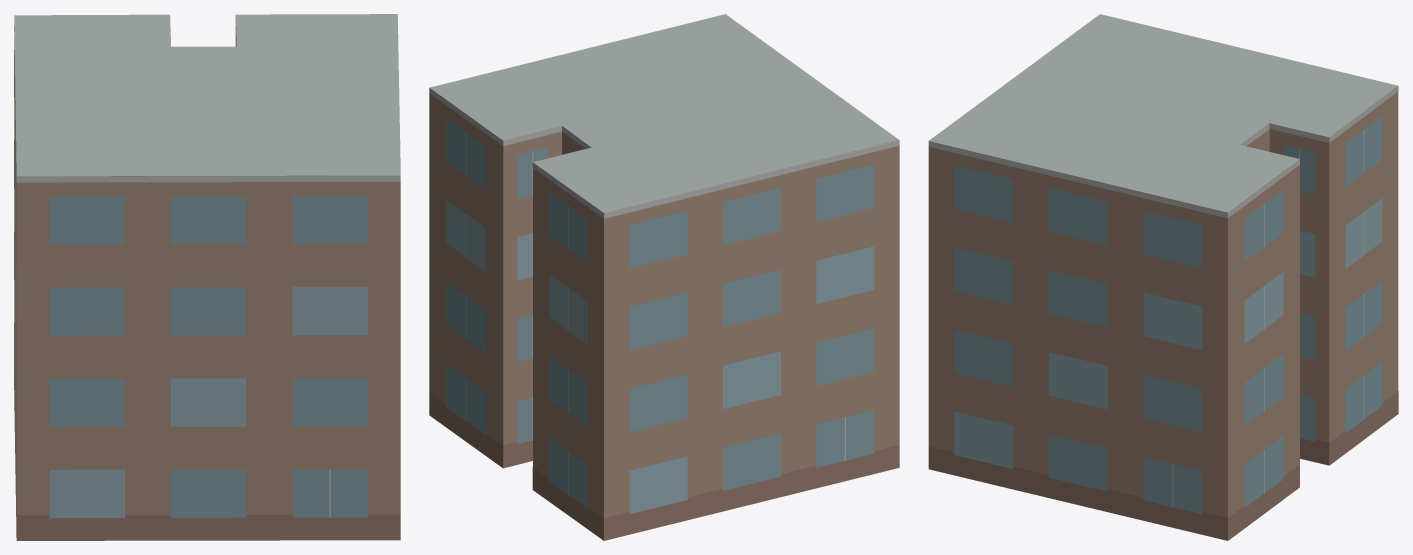
Rendered from survey-upis-32914189.glb.
The picture shows the model from 3 angles, left to right: view 1: azimuth 30°, elevation 25°; view 2: azimuth 150°, elevation 25°; view 3: azimuth 270°, elevation 25°; orthographic projection. The views are drawn at different scales.
Visible parts, largest first — view 1: survey-upis-32914189.tmp; view 2: survey-upis-32914189.tmp; view 3: survey-upis-32914189.tmp.
Boxes of the visible parts, bbox=[...] form: survey-upis-32914189.tmp: bbox=[14, 14, 400, 540]; survey-upis-32914189.tmp: bbox=[429, 14, 899, 540]; survey-upis-32914189.tmp: bbox=[928, 14, 1398, 540].
Size of the model in its own units: 18.44 by 14.2 by 18.43.
